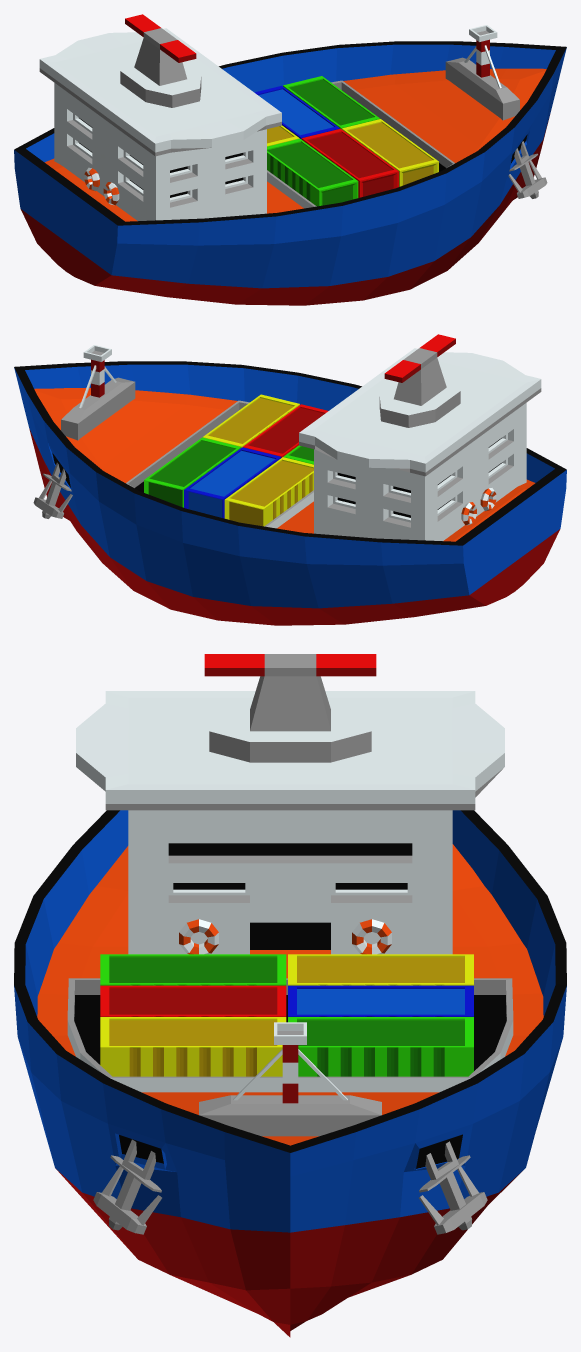
Rendered from low_poly_cargo_ship.glb.
3 renders of one model, top to bottom at view 1: azimuth 30°, elevation 25°; view 2: azimuth 150°, elevation 25°; view 3: azimuth 270°, elevation 25°, orthographic. The views are drawn at different scales.
Parts seen in each view (by area): view 1: Cargo_Ship_LowPoly; view 2: Cargo_Ship_LowPoly; view 3: Cargo_Ship_LowPoly.
Part boxes in pixels (x1,y1,x2,y2): Cargo_Ship_LowPoly: [14, 14, 566, 305]; Cargo_Ship_LowPoly: [14, 334, 566, 625]; Cargo_Ship_LowPoly: [14, 654, 566, 1337].
Bounding box in the file's own units: 6 × 3.2 × 3.59.
Materials: 1 (1 with a texture image).
